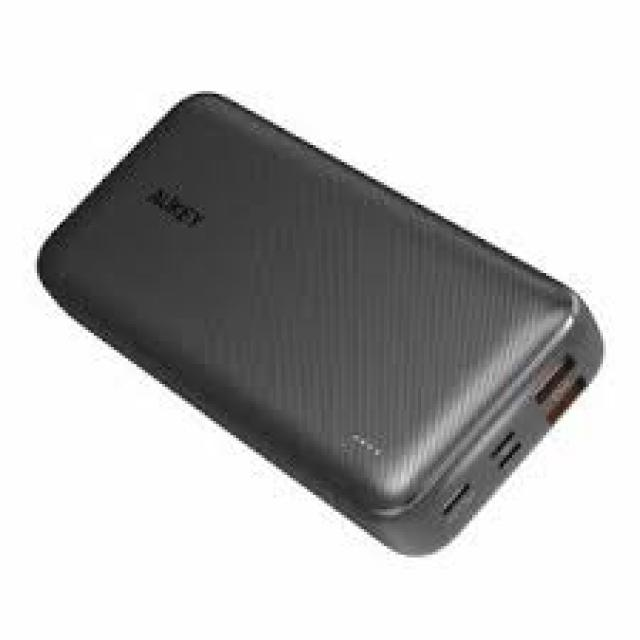non-organic waste: (38, 89, 601, 554)
